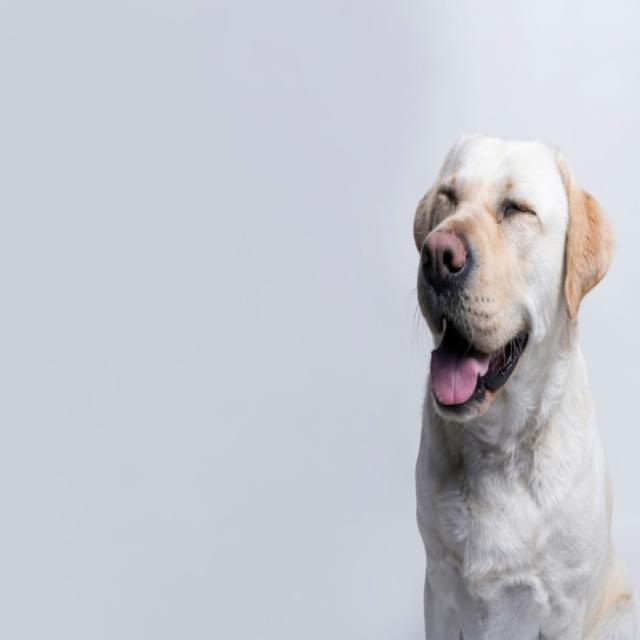Dog: (414, 130, 640, 640)
